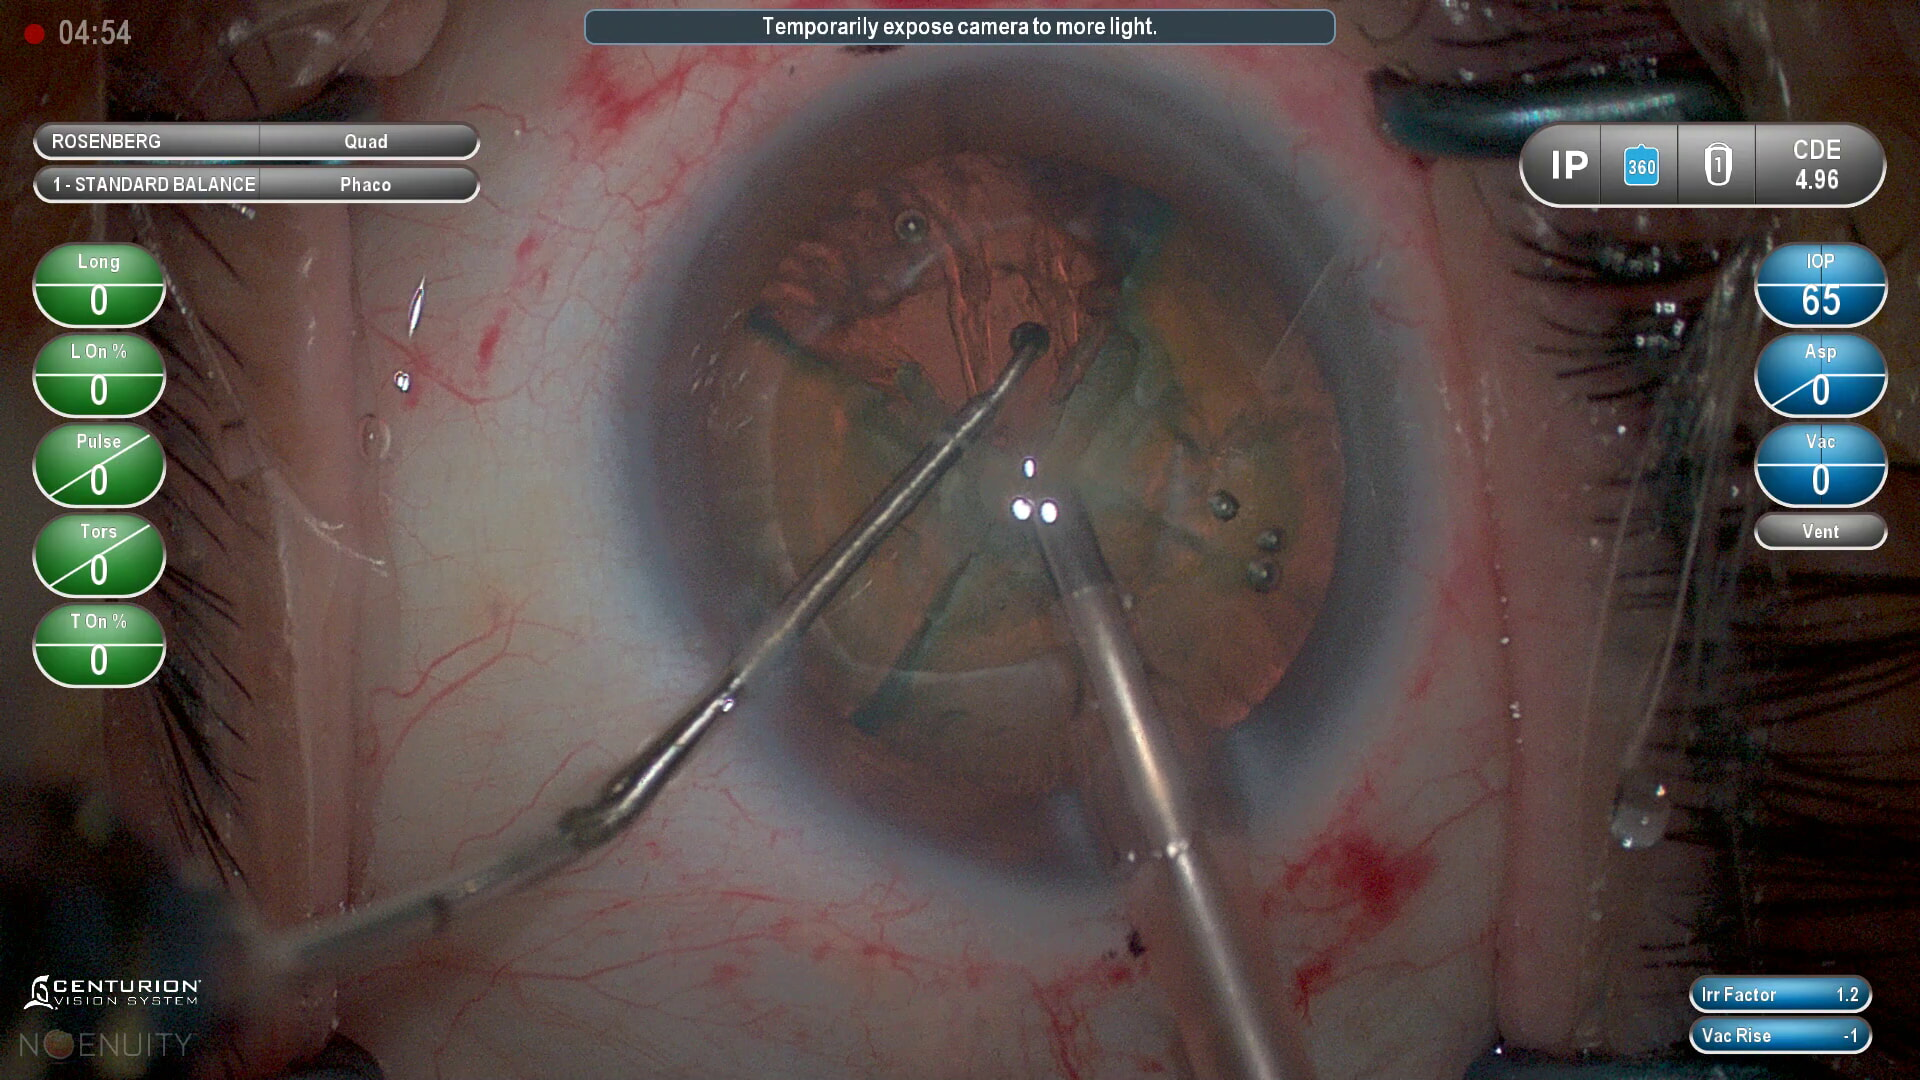iris: (660, 75, 1413, 861)
pupil: (698, 158, 1344, 799)
